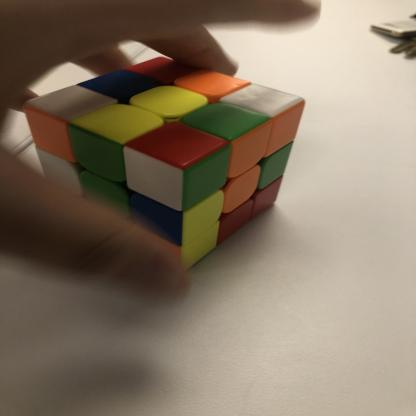UnsolvedCube: (28, 48, 315, 270)
